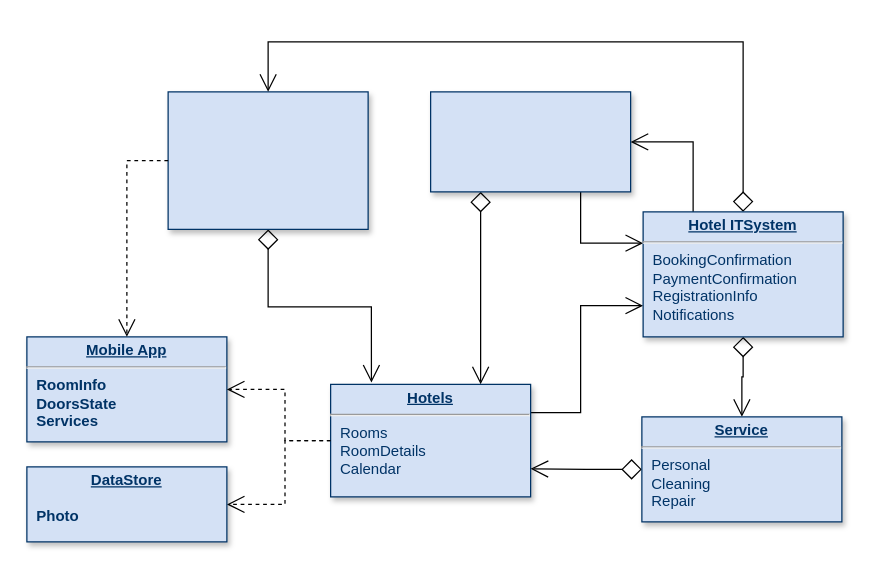
The diagram is 873 pixels wide and 573 high, and some of its shapes have lost their labels. Here are the shapes that lost their labels. From the top down, the centre of each, then its label:
At (x=269, y=162): "Clents Registration Authentification CheckRooms Booking Payment".
At (x=531, y=143): "Administrations ClientsPanel PersonalPanel RoomsPanel".
